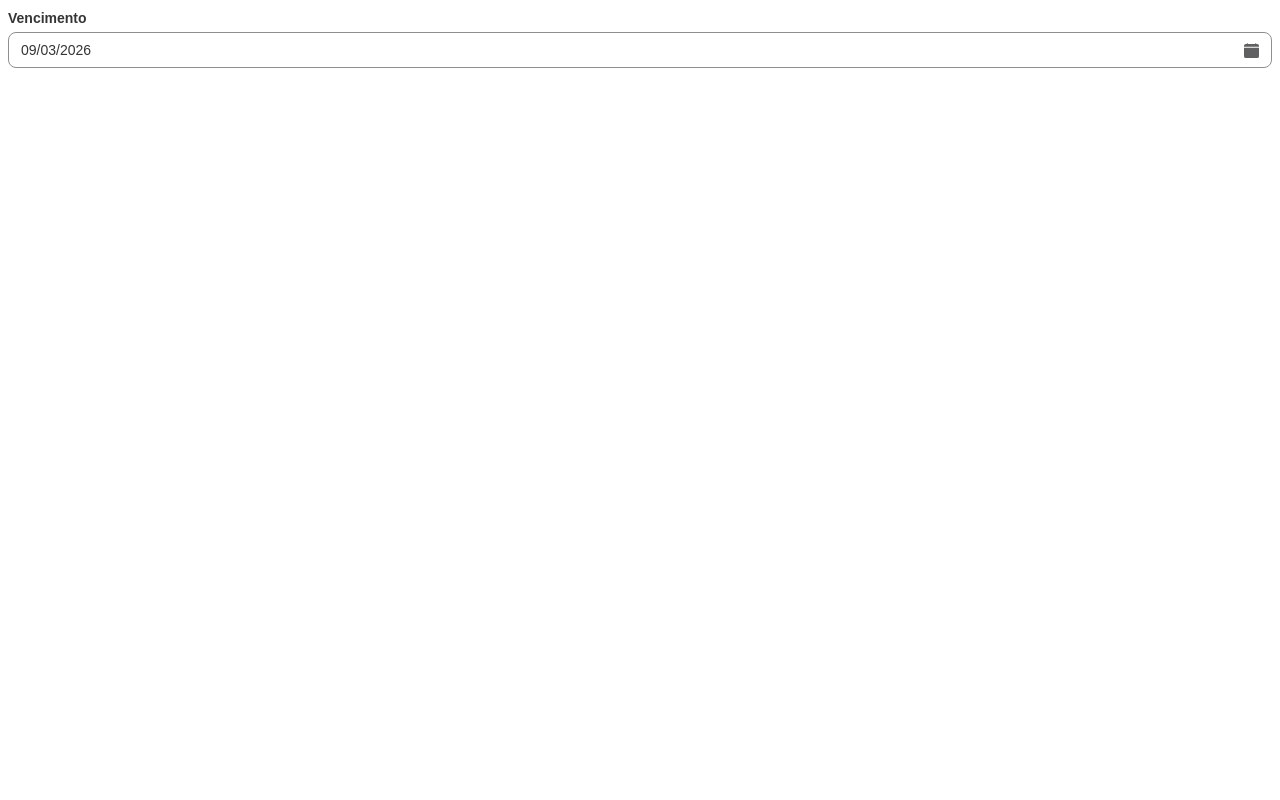
Test case: DatePicker › abre o calendario pela seta para baixo e escolhe um dia
Press ArrowDown in the field labelled "Vencimento", box [9,33,1232,67]
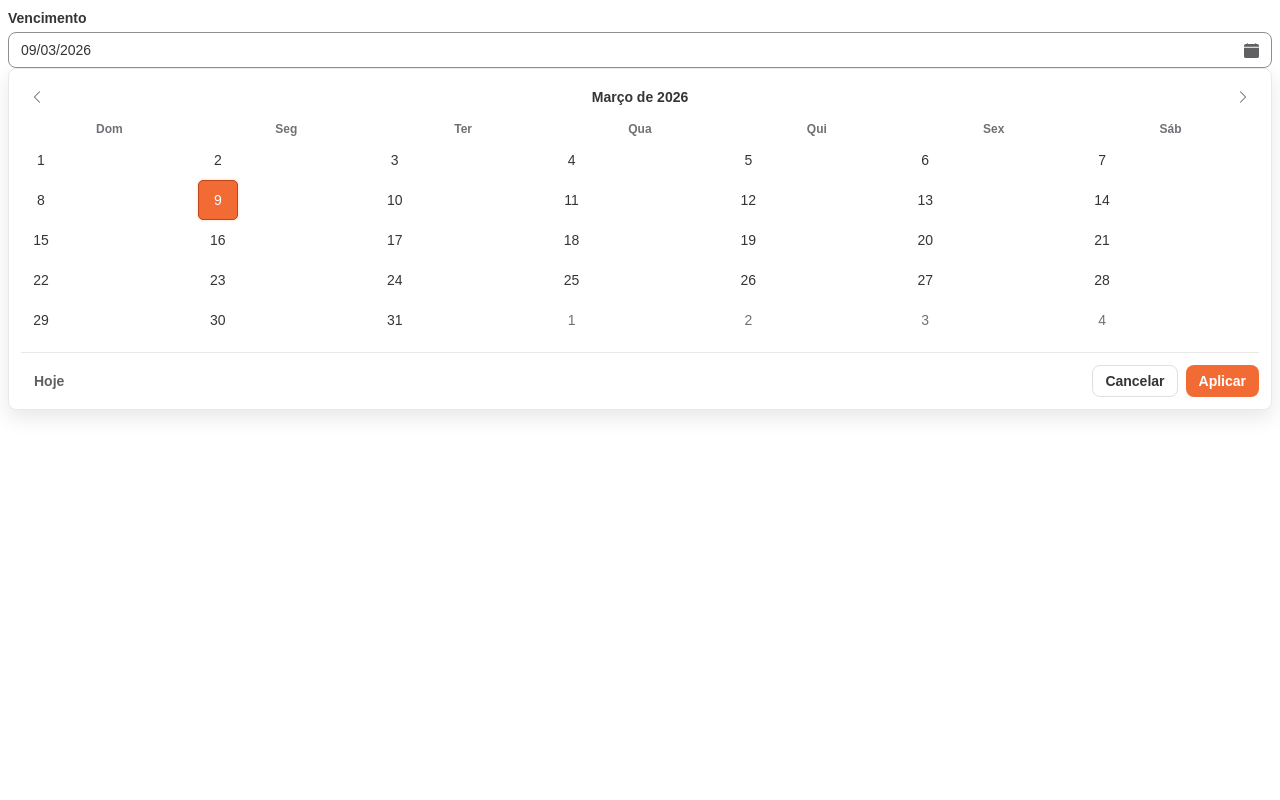
Expected: the dialog is shown, [8,68,1272,410]
Click the button named "12 de março de 2026": (748, 200) [728,180,768,220]
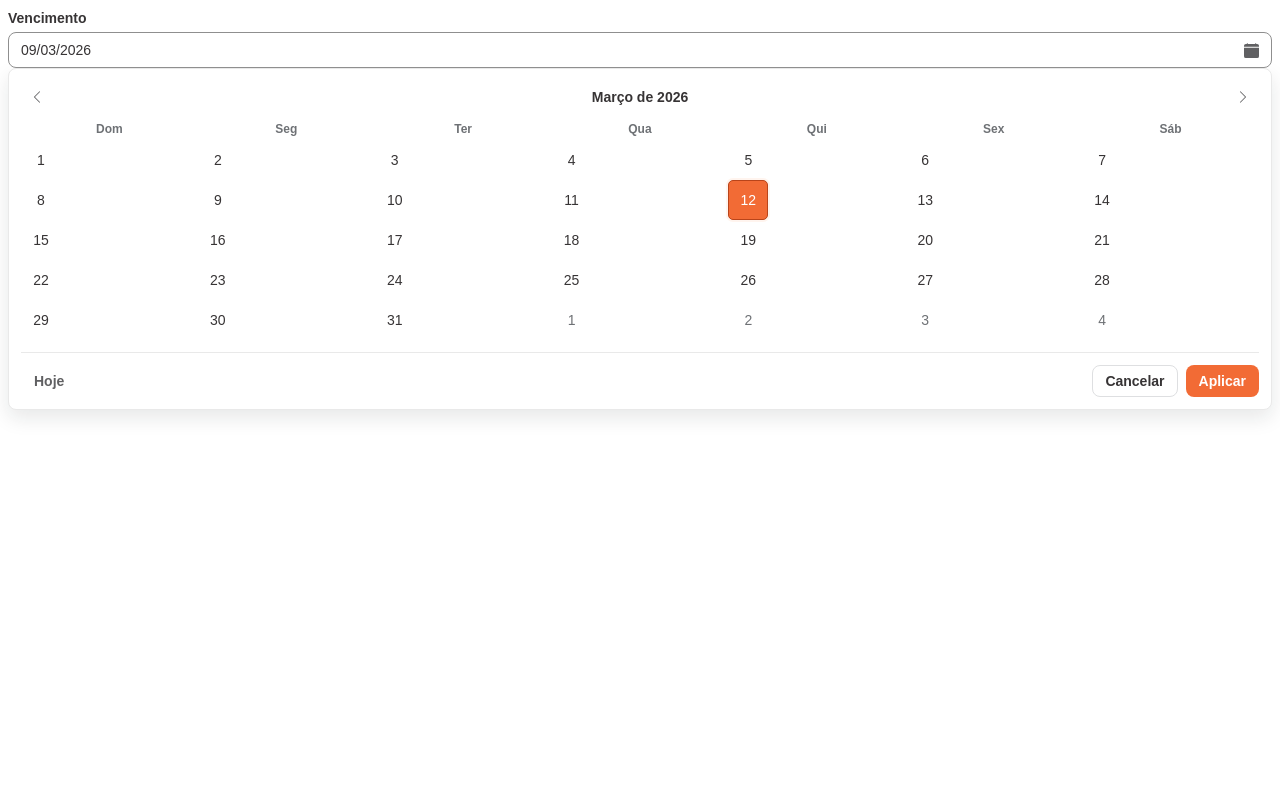
Click the button "Aplicar": (1222, 381) [1186,365,1259,397]
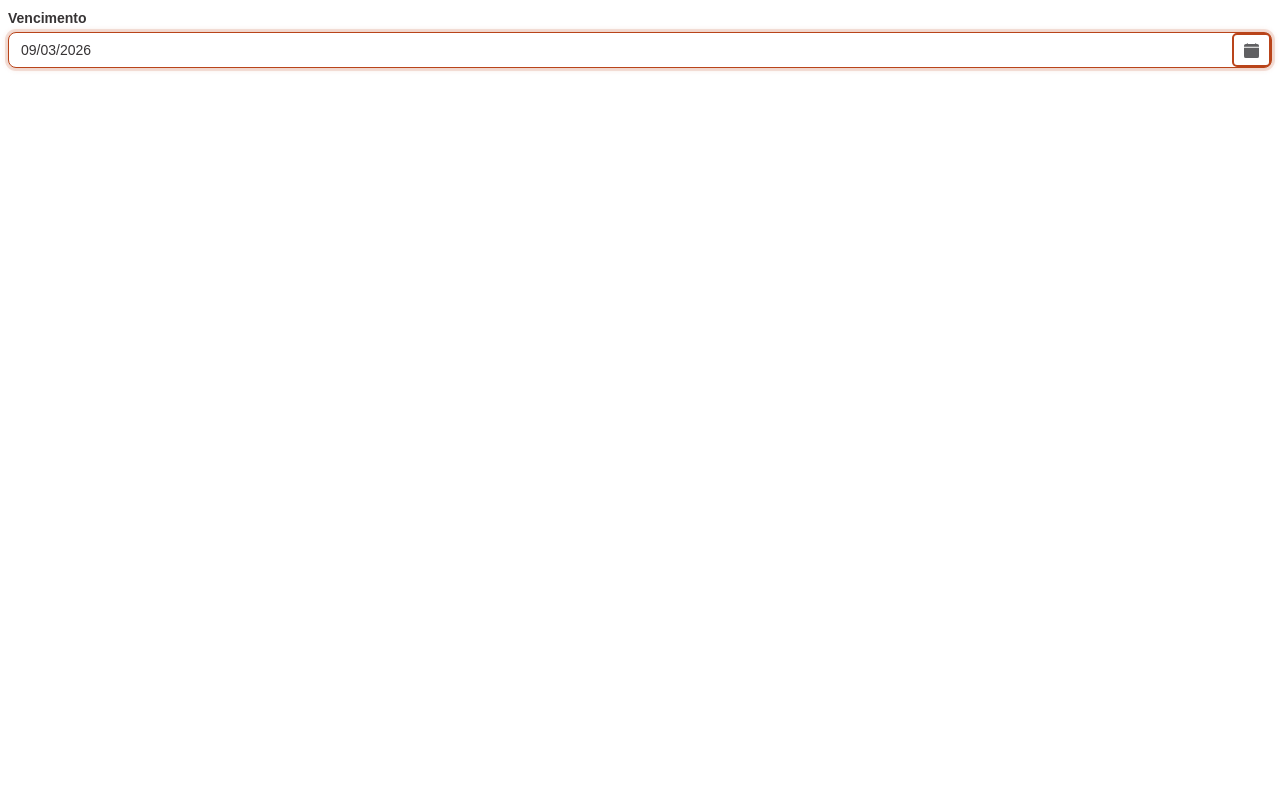
Expected: the dialog is gone
